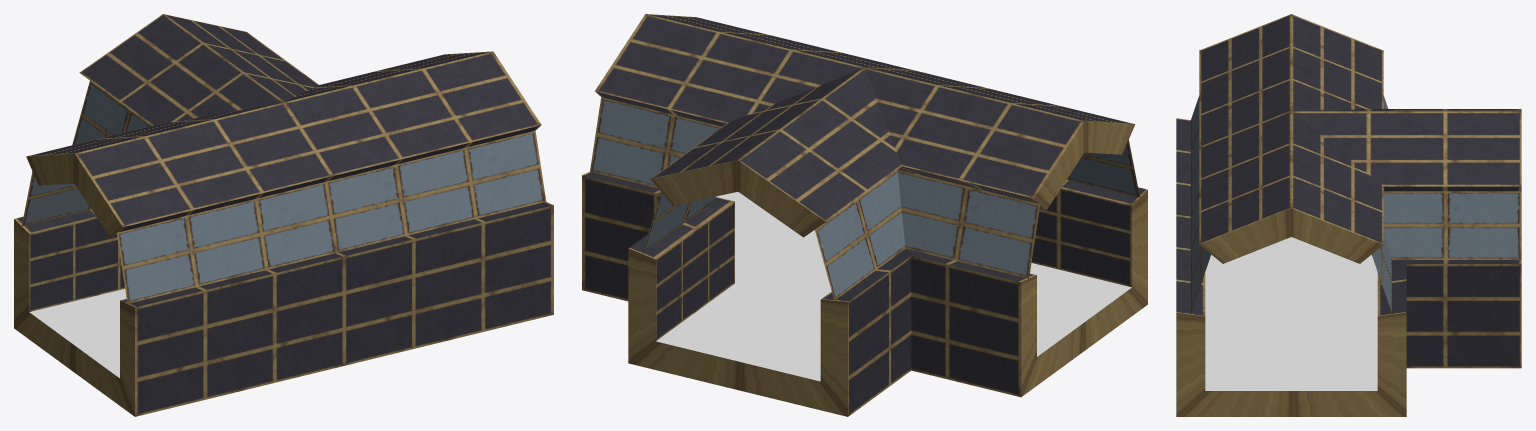
The model's file is Hall-T.fbx.
3 renders of one model, left to right at view 1: azimuth 30°, elevation 25°; view 2: azimuth 150°, elevation 25°; view 3: azimuth 270°, elevation 25°, orthographic. The views are drawn at different scales.
Visible parts, largest first — view 1: HallWayTWindowed; view 2: HallWayTWindowed; view 3: HallWayTWindowed.
Part boxes in pixels (x1,y1,x2,y2): HallWayTWindowed: (14, 14, 553, 416); HallWayTWindowed: (582, 14, 1147, 416); HallWayTWindowed: (1176, 14, 1521, 416).
Bounding box in the file's own units: 800 × 400 × 600.
